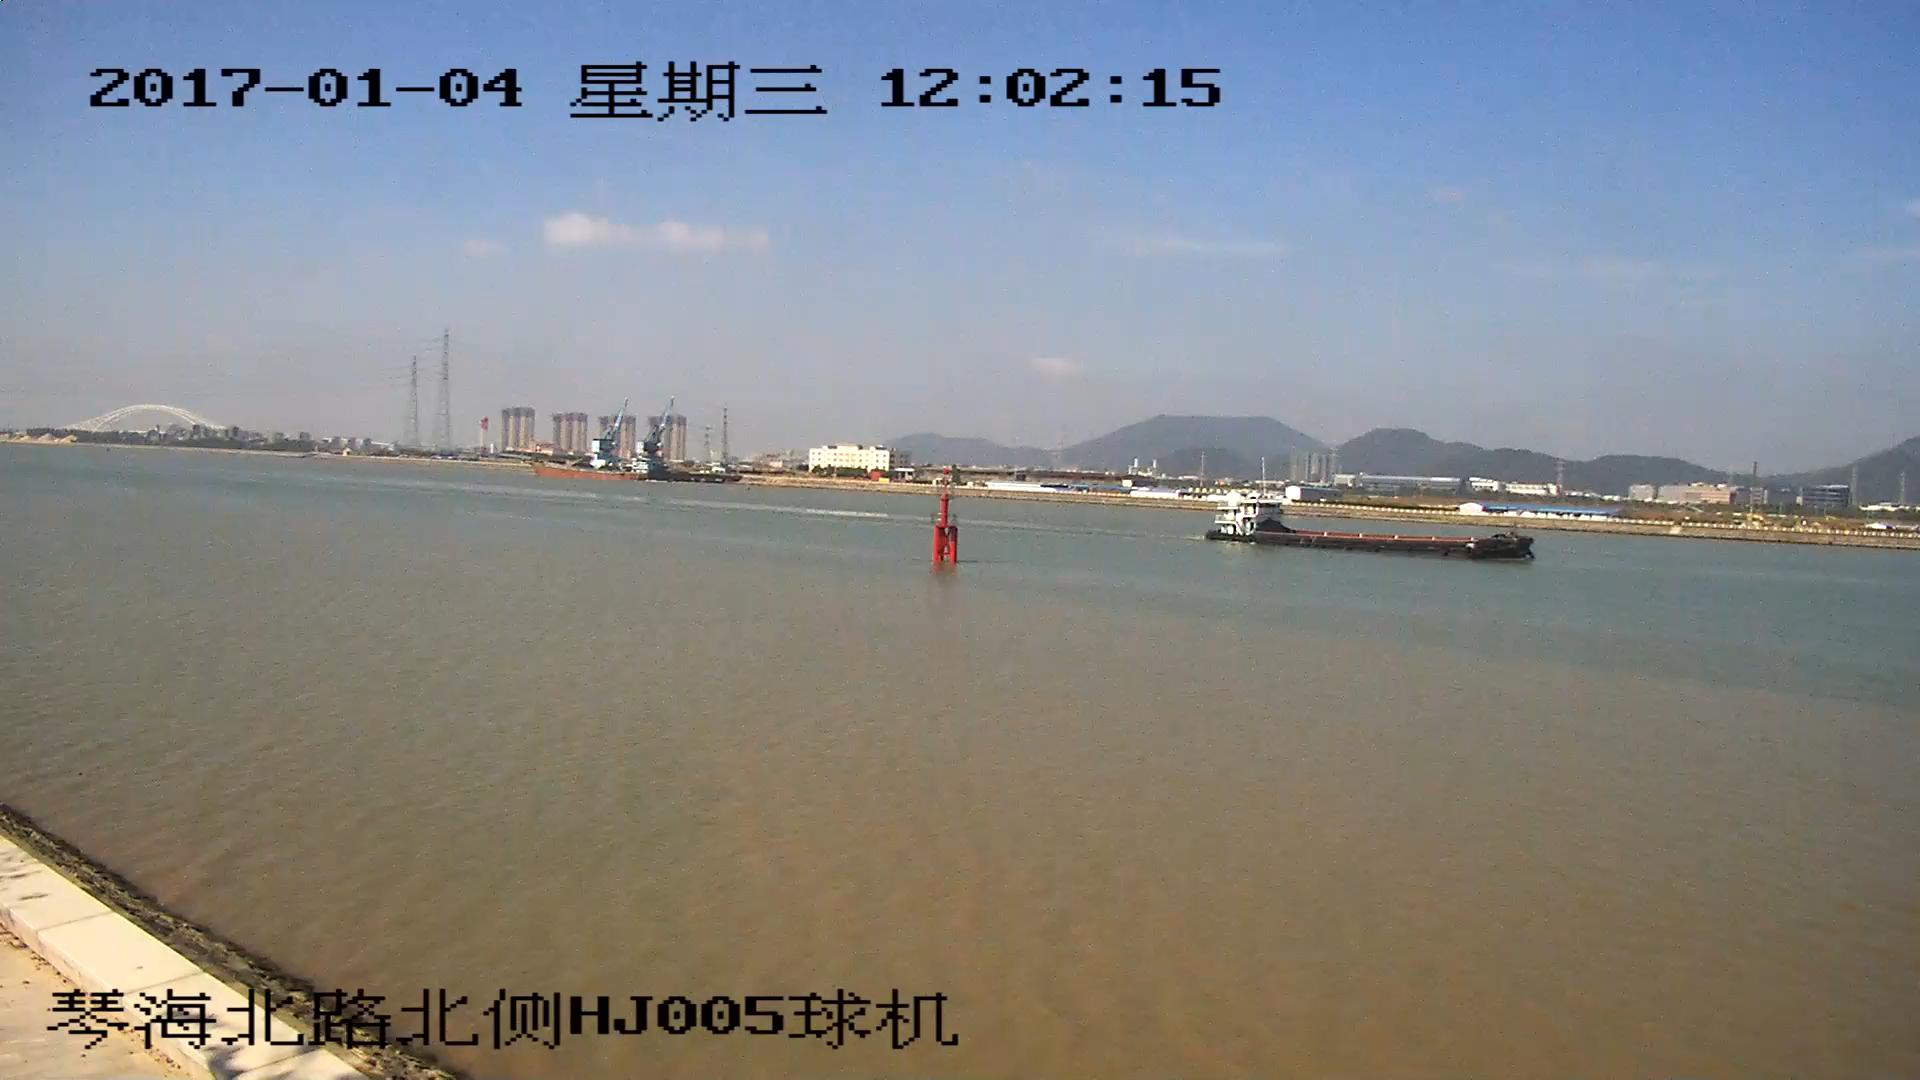general cargo ship: (1211, 492, 1535, 565)
